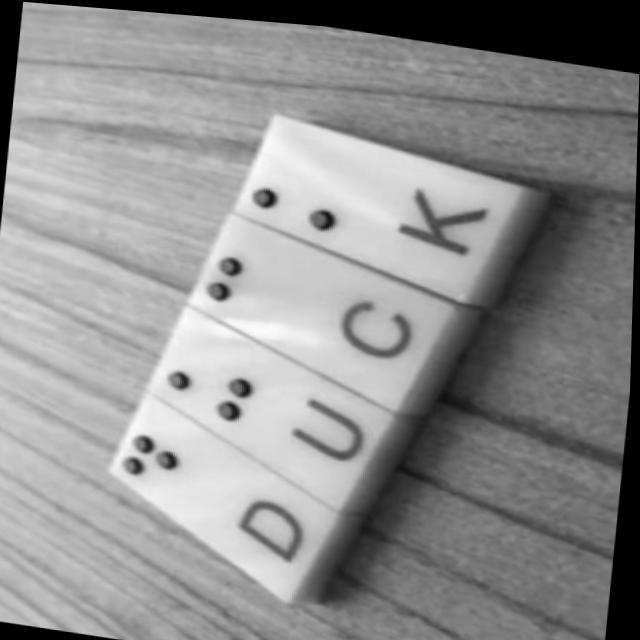braiile: (107, 402, 229, 526), (197, 236, 334, 341), (153, 324, 282, 434), (236, 142, 373, 243)
